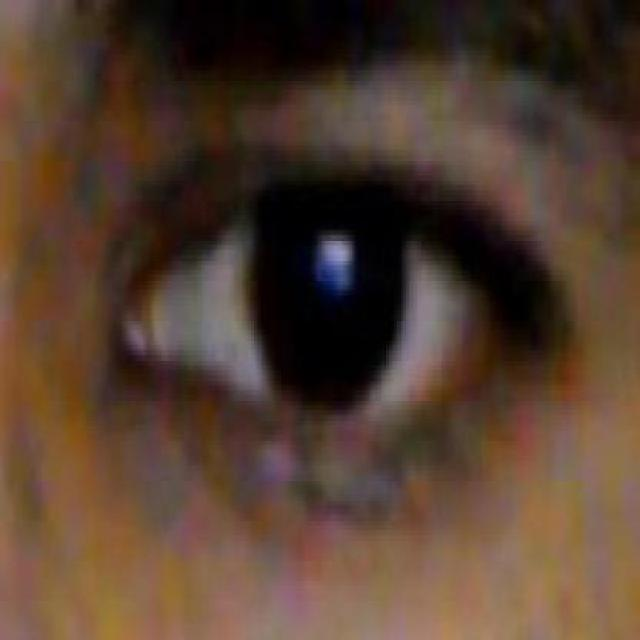awake: (132, 180, 505, 411)
